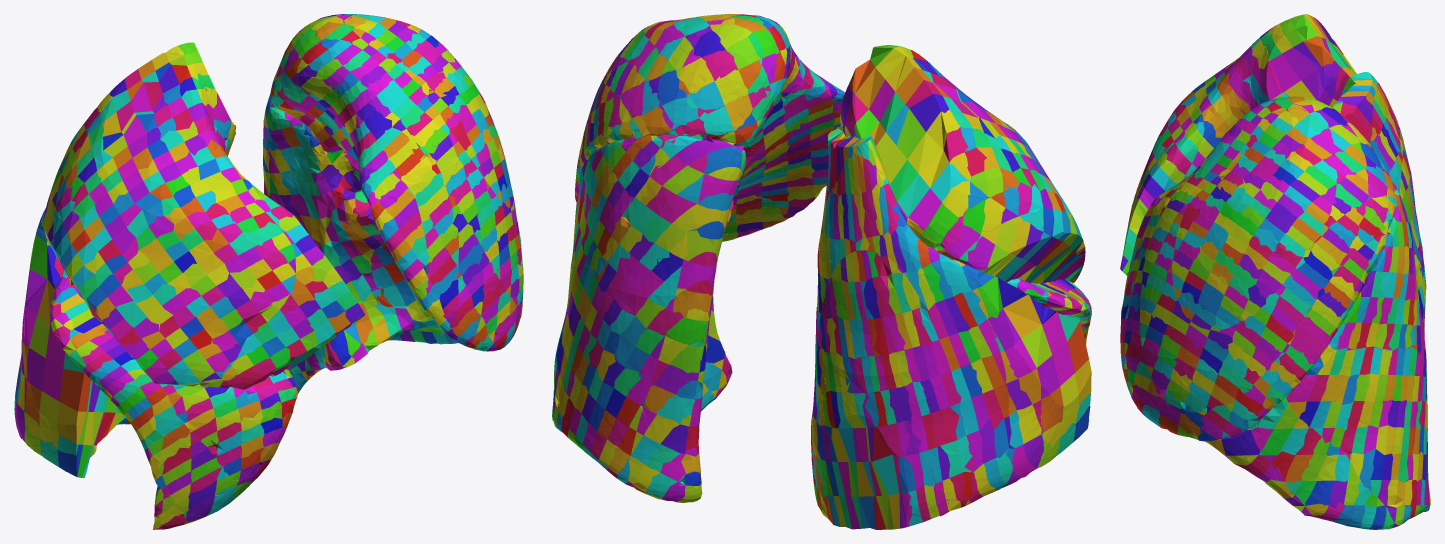
The model's file is lung-female-large.glb.
The picture shows the model from 3 angles, left to right: view 1: azimuth 30°, elevation 25°; view 2: azimuth 150°, elevation 25°; view 3: azimuth 270°, elevation 25°; orthographic projection. The views are drawn at different scales.
Visible parts, largest first — view 1: RLL-1F8, RLL-1F9, RLL-1C6, RLL-1E8, RLL-1E9, RLL-1C5, RLL-1D8, RLL-1D7; view 2: RLL-1D6, LLL-6C7, RUL-1A7, LUL-1C7, RUL-1B7, RLL-1D9, LLL-12C1, RLL-1D7, LLL-7C6, LLL-8C5, RUL-1B6, LLL-5C9 (+27 smaller); view 3: LLL-25D11, RUL-4B12, RUL-3B12, RUL-3C12, LLL-20C13, LLL-24C11, LLL-24B9, RUL-1B12, LLL-23C11, LLL-22C12, RUL-11B11, LLL-25C10 (+19 smaller).
Boxes of the visible parts, x1,y1,x2,y2 form: RLL-1F8: [59, 369, 90, 411]; RLL-1F9: [56, 402, 86, 444]; RLL-1C6: [24, 269, 47, 313]; RLL-1E8: [42, 359, 63, 401]; RLL-1E9: [39, 391, 59, 435]; RLL-1C5: [29, 234, 48, 278]; RLL-1D8: [27, 348, 45, 390]; RLL-1D7: [29, 314, 49, 357]; RLL-1D6: [1003, 295, 1041, 338]; LLL-6C7: [665, 317, 708, 345]; RUL-1A7: [909, 93, 949, 131]; LUL-1C7: [677, 57, 714, 93]; RUL-1B7: [896, 108, 925, 159]; RLL-1D9: [1040, 386, 1063, 432]; LLL-12C1: [704, 146, 742, 174]; RLL-1D7: [1021, 325, 1051, 367]; LLL-7C6: [673, 289, 712, 316]; LLL-8C5: [677, 261, 716, 291]; RUL-1B6: [907, 132, 942, 173]; LLL-5C9: [654, 364, 699, 394]; LLL-25D11: [1221, 429, 1260, 455]; RUL-4B12: [1269, 54, 1300, 92]; RUL-3B12: [1282, 47, 1318, 79]; RUL-3C12: [1301, 68, 1332, 105]; LLL-20C13: [1305, 480, 1334, 505]; LLL-24C11: [1260, 428, 1292, 455]; LLL-24B9: [1289, 375, 1317, 402]; RUL-1B12: [1303, 36, 1334, 66]; LLL-23C11: [1277, 428, 1308, 454]; LLL-22C12: [1284, 454, 1312, 482]; RUL-11B11: [1201, 105, 1231, 137]; LLL-25C10: [1251, 400, 1288, 429].
Bounding box in the file's own units: 0.2514 × 0.2303 × 0.1529.
